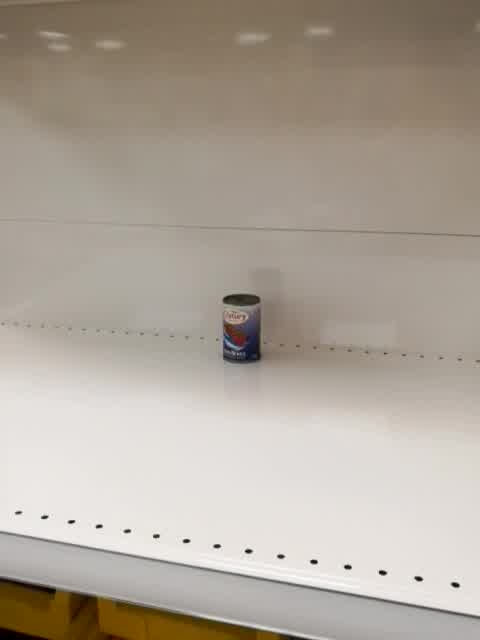sardine: (221, 291, 261, 366)
